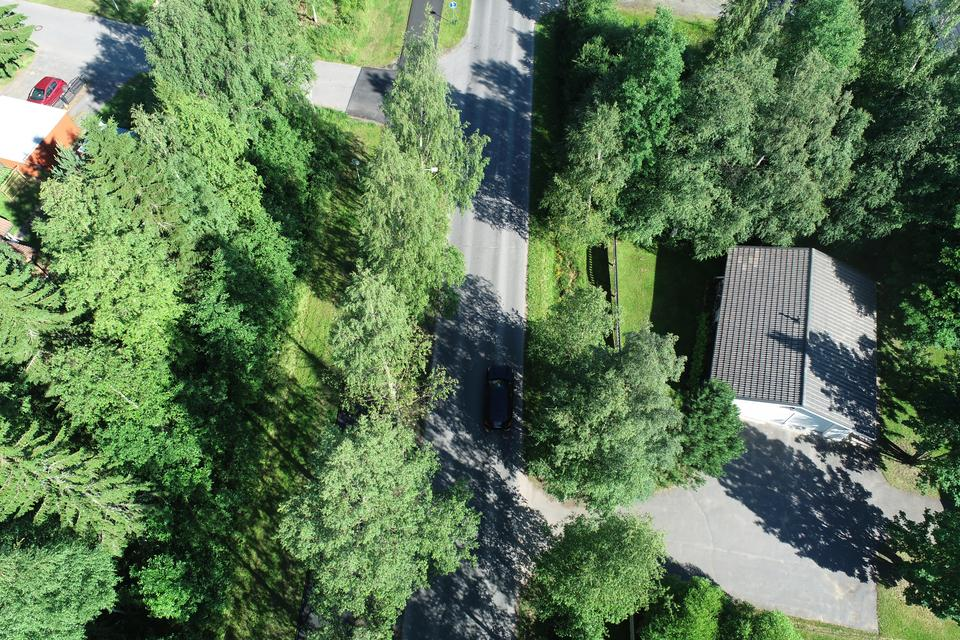intersection: (374, 45, 550, 158)
